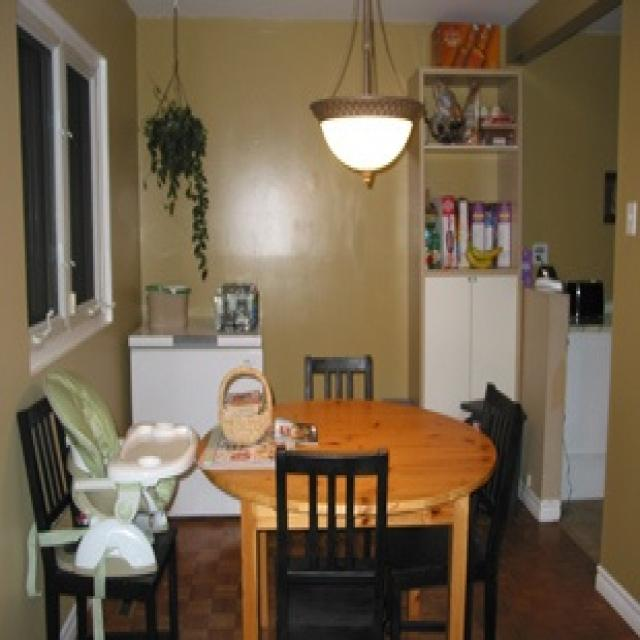chair: (14, 393, 176, 637), (390, 379, 529, 635), (273, 445, 388, 634), (301, 352, 376, 404)
diningtable: (198, 385, 498, 637)
pottedplant: (142, 85, 215, 283)
